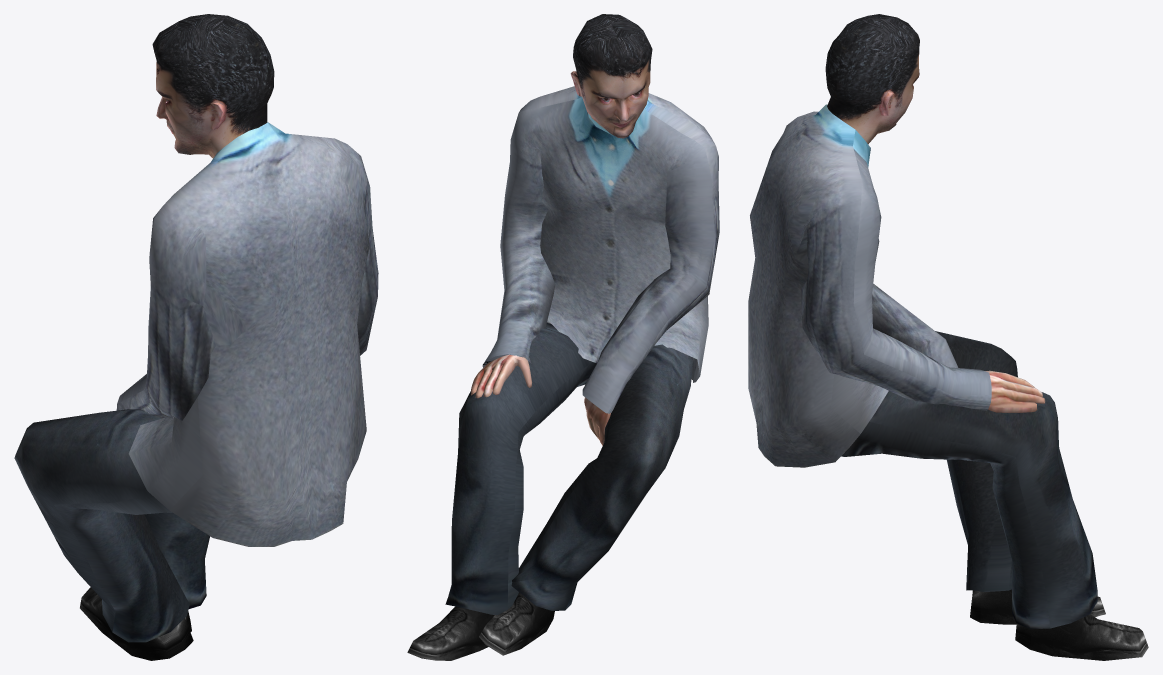
Rendered from casualman.fbx.
The picture shows the model from 3 angles, left to right: view 1: azimuth 30°, elevation 25°; view 2: azimuth 150°, elevation 25°; view 3: azimuth 270°, elevation 25°; orthographic projection. The views are drawn at different scales.
Parts seen in each view (by area): view 1: casualman; view 2: casualman; view 3: casualman.
Boxes of the visible parts, x1,y1,x2,y2 form: casualman: (14,14,378,660); casualman: (407,14,719,660); casualman: (748,14,1148,660).
Size of the model in its own units: 57.24 by 141 by 85.11.
